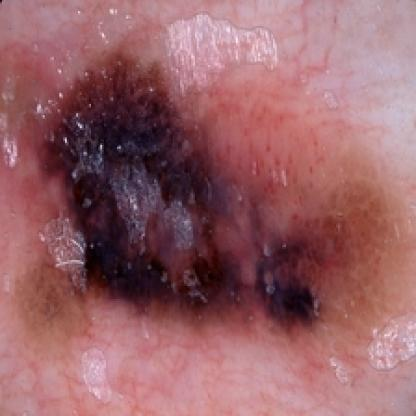Skin_Cancer-Malignant: (36, 52, 328, 330)
